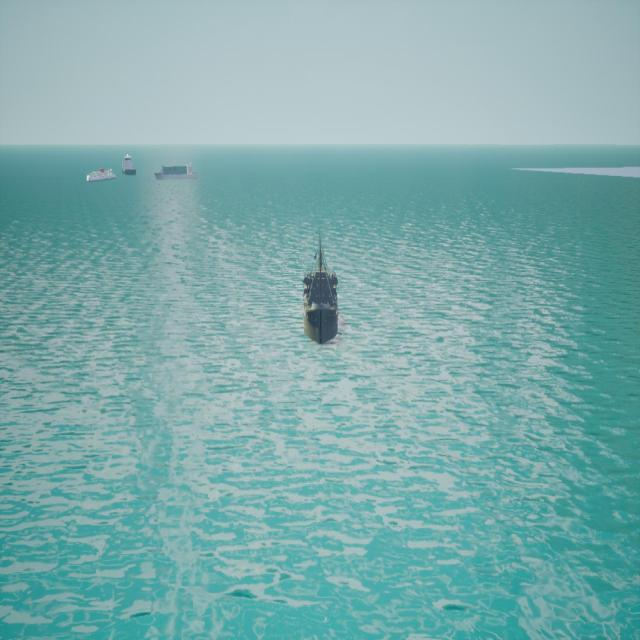fishing ship: (303, 233, 340, 347), (156, 162, 199, 182), (87, 168, 118, 184), (123, 155, 137, 176)
